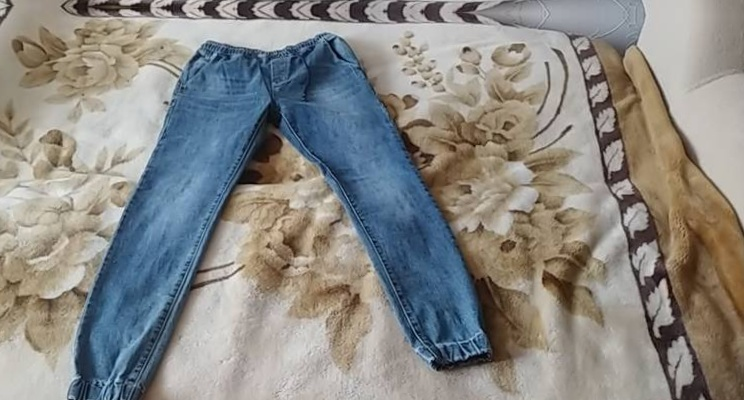Pants: (69, 32, 507, 400)
